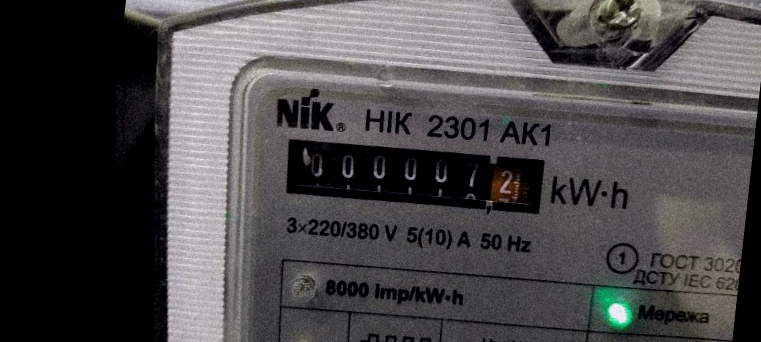0: (306, 149, 326, 178), (400, 153, 420, 182), (338, 150, 357, 179), (369, 151, 388, 180), (432, 156, 450, 185)
2: (496, 168, 515, 195)
7: (463, 158, 481, 190)
screen: (271, 124, 557, 227)
